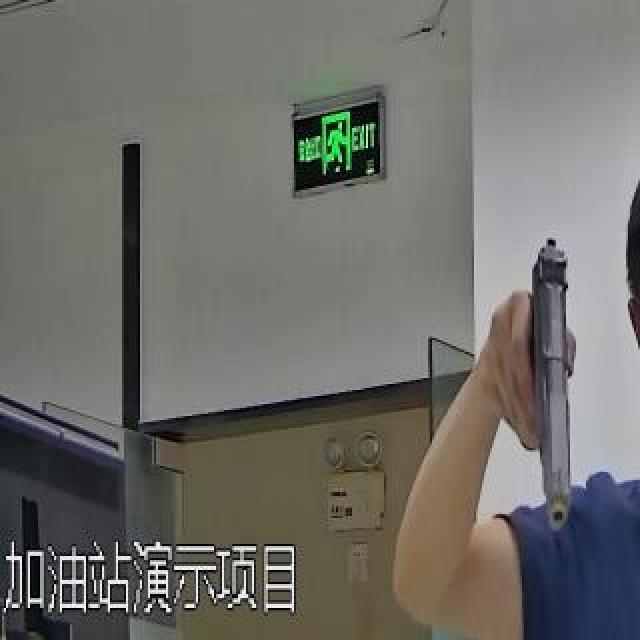Guns: (501, 213, 606, 528)
